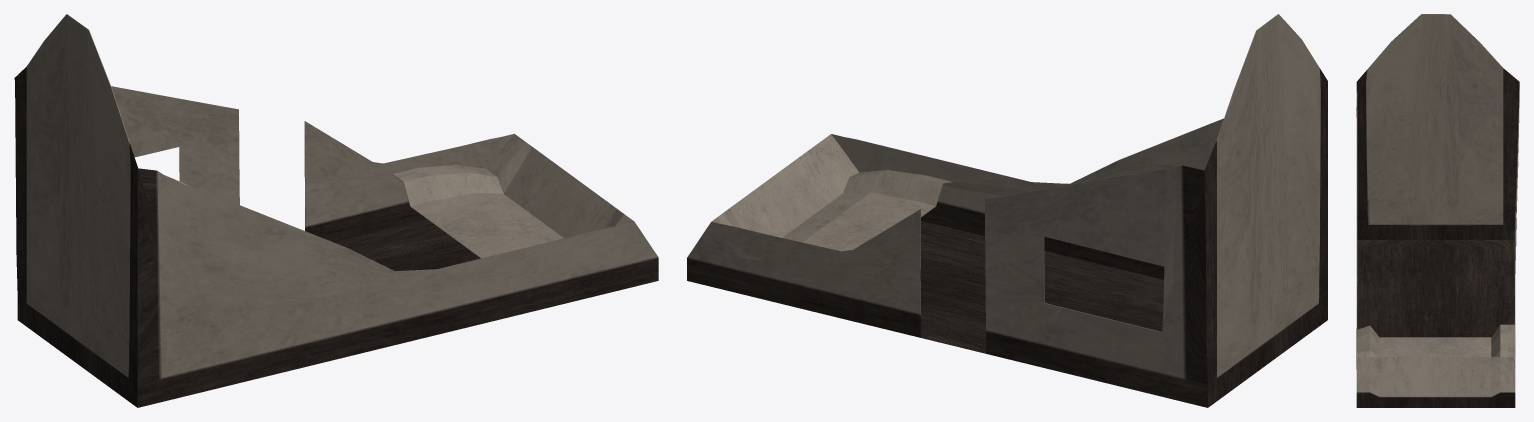
Rendered from casa_TEXTURIZADA.fbx.
The picture shows the model from 3 angles, left to right: view 1: azimuth 30°, elevation 25°; view 2: azimuth 150°, elevation 25°; view 3: azimuth 270°, elevation 25°; orthographic projection. The views are drawn at different scales.
Visible parts, largest first — view 1: Cube.069; view 2: Cube.069; view 3: Cube.069.
Boxes of the visible parts, x1,y1,x2,y2 form: Cube.069: [14, 14, 658, 407]; Cube.069: [687, 14, 1327, 407]; Cube.069: [1356, 14, 1519, 407].
Size of the model in its own units: 900 by 564 by 370.
1 material, 1 textured.
